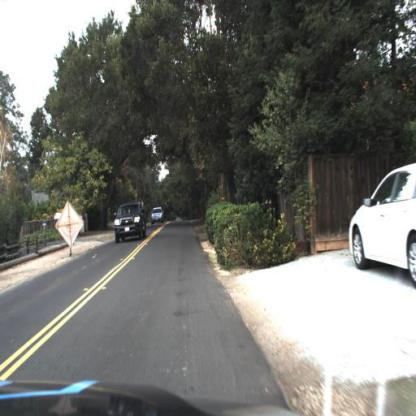car: (348, 164, 416, 286), (113, 200, 147, 244), (148, 207, 166, 224)
